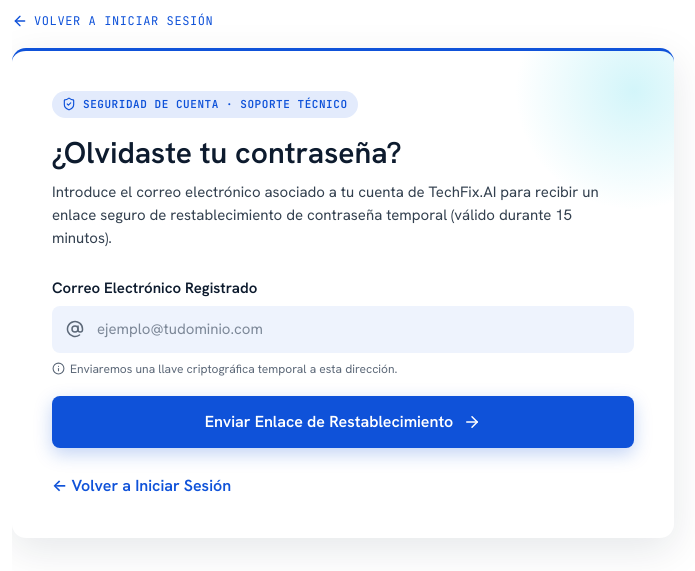
Test case: recuperar contraseña › muestra la confirmación sin revelar si el correo existe
The image size is (695, 571).
Type "ana@demo.pe" into the field labelled "Correo Electrónico Registrado".
click(343, 329); type("ana@demo.pe")  # box [52,306,634,352]
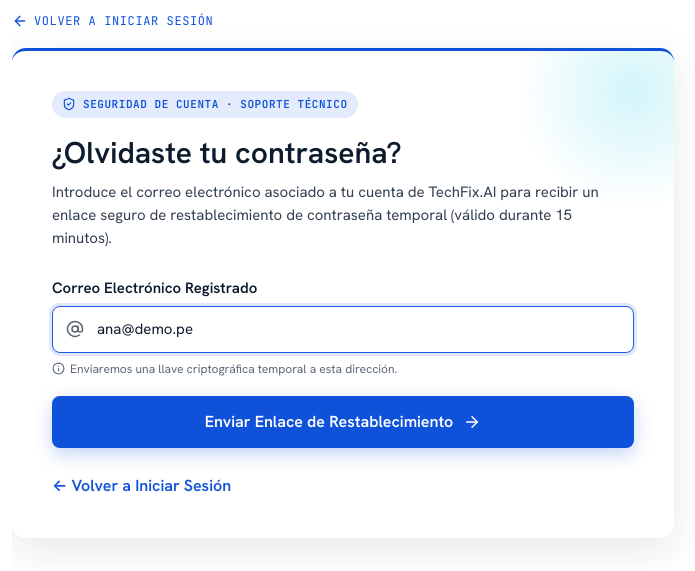
Click the button "Enviar Enlace de Restablecimiento".
click(343, 422)  # box [52,396,634,448]
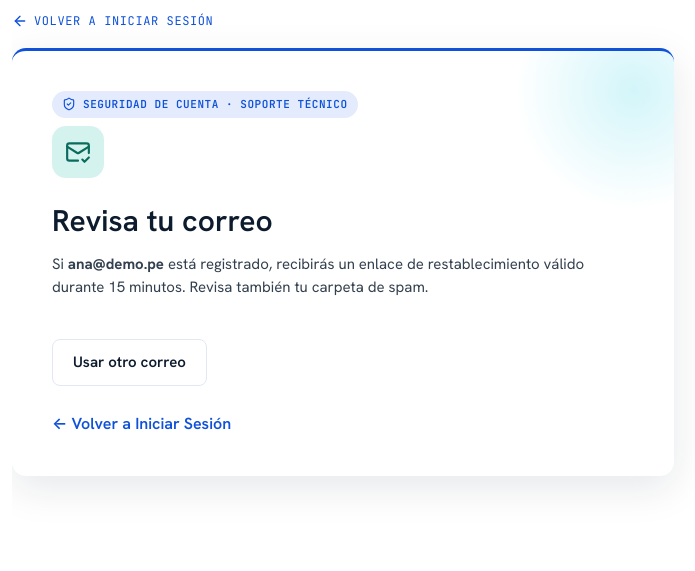
expect the heading "Revisa tu correo" is shown: met, box [52,204,273,239]
expect the text "Si" shows "está registrado": met, box [52,254,584,297]
